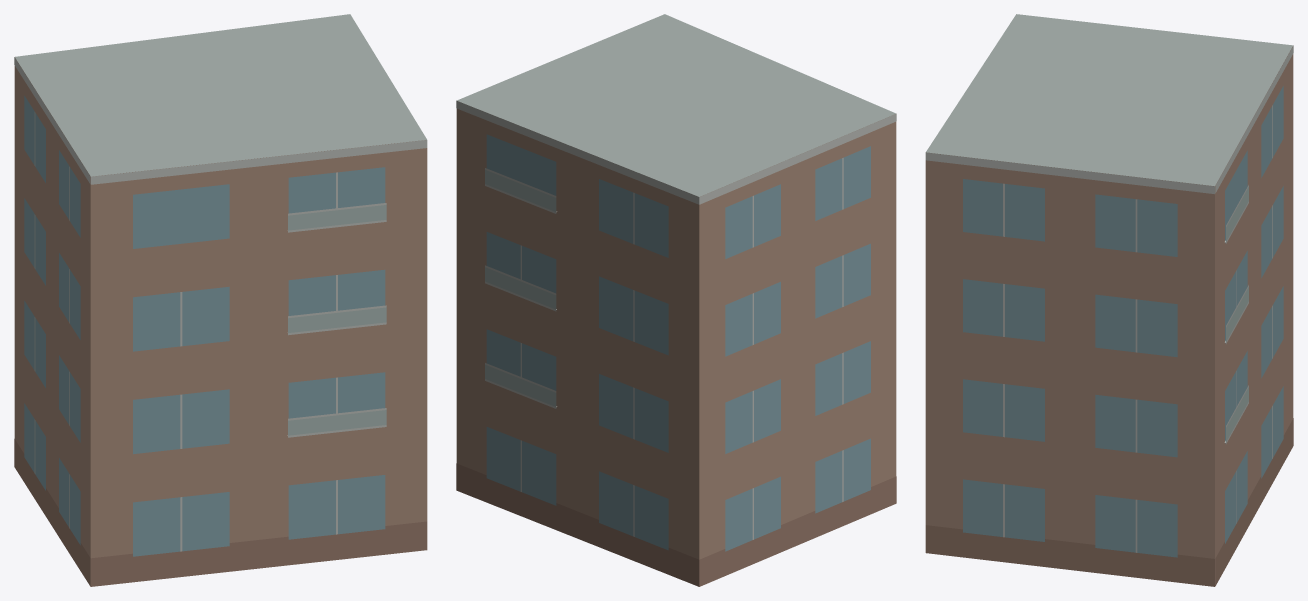
File: survey-upis-32832030.glb
The picture shows the model from 3 angles, left to right: view 1: azimuth 30°, elevation 25°; view 2: azimuth 150°, elevation 25°; view 3: azimuth 270°, elevation 25°; orthographic projection. The views are drawn at different scales.
Visible parts, largest first — view 1: survey-upis-32832030.tmp; view 2: survey-upis-32832030.tmp; view 3: survey-upis-32832030.tmp.
Boxes of the visible parts, box(x1,y1,x2,y2) form: survey-upis-32832030.tmp: box(14, 14, 427, 586); survey-upis-32832030.tmp: box(456, 14, 896, 586); survey-upis-32832030.tmp: box(925, 14, 1293, 586).
Size of the model in its own units: 11.25 by 12.2 by 10.16.
